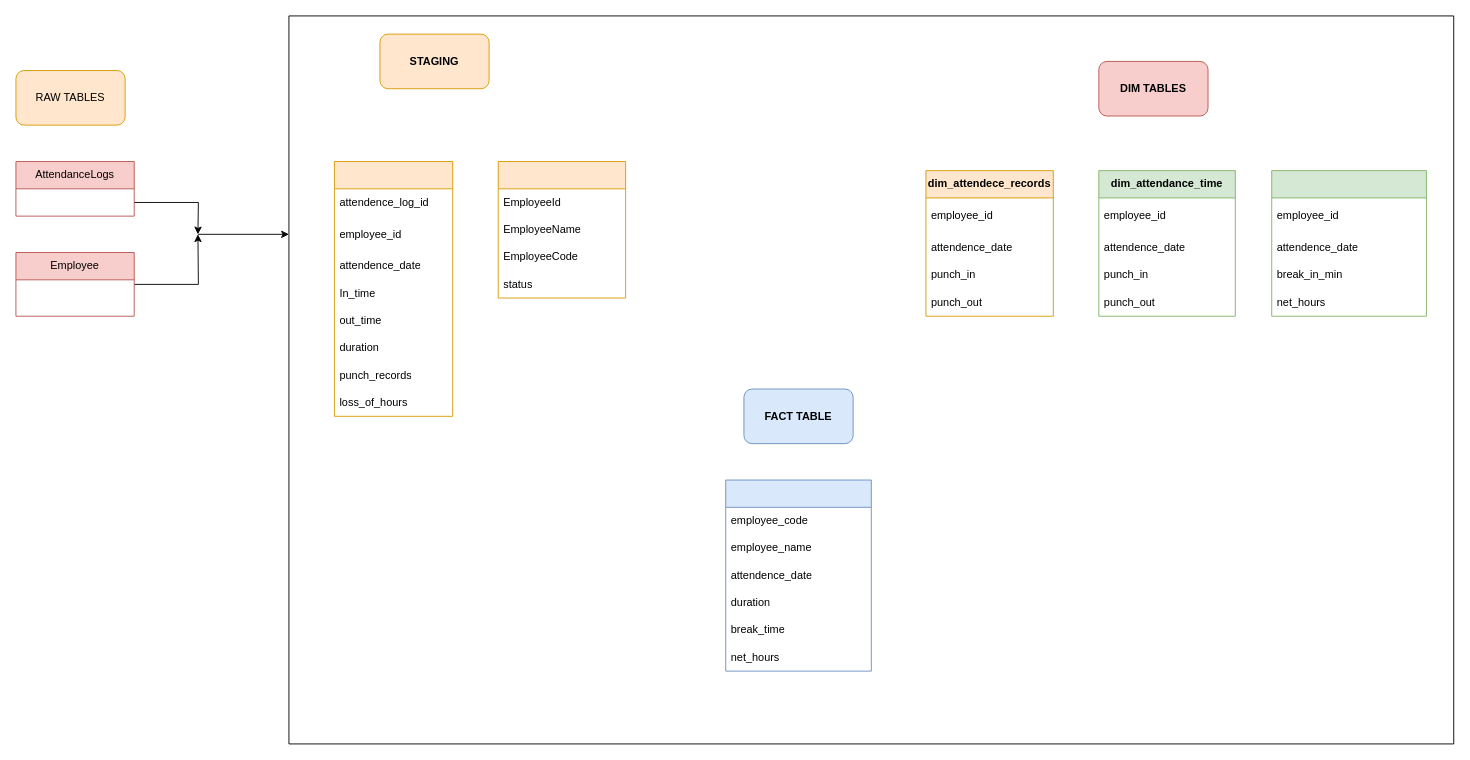
Some shapes in this 1470 by 760 pixel diagram are drawn without their labels. Each missing label, with the box of its shape:
dim_attendance_break_time: (1271, 170, 1426, 316)
fact_attendece_logs: (725, 479, 871, 671)
stg_attendecelogs: (334, 161, 453, 416)
stg_employees: (497, 161, 626, 298)
